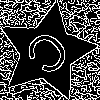C: (21, 27, 80, 85)
